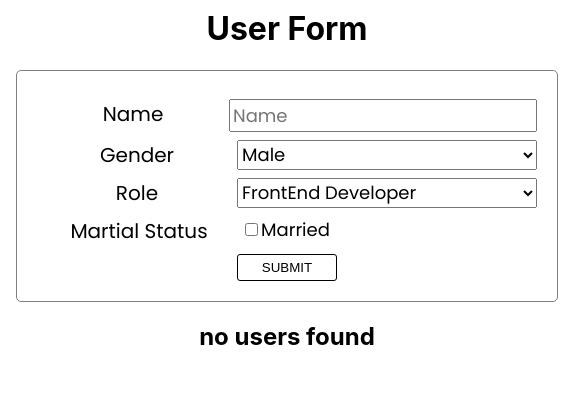
Test: React Form Component Testing › should reset the fileds with intitial data
Type "Aman" into the field at (383, 115), box [229,99,537,132]
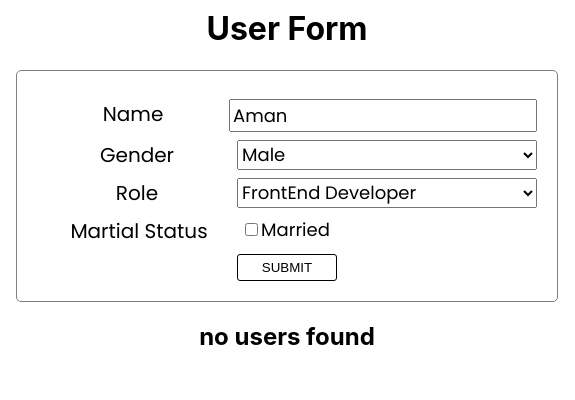
Select "Female" in the dropdown with test id "gender-select" at (387, 155), box [237,140,537,170]
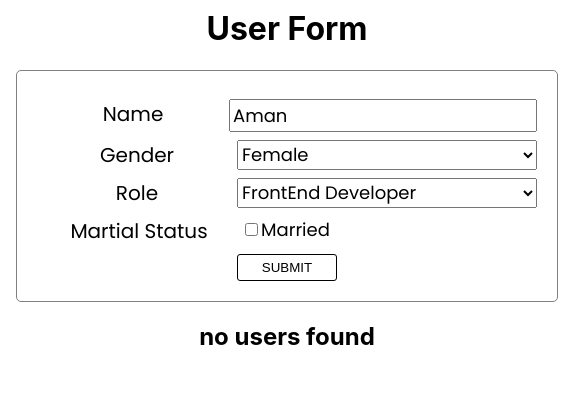
Select "BackEnd Developer" in the dropdown with test id "role-select" at (387, 193), box [237,178,537,208]
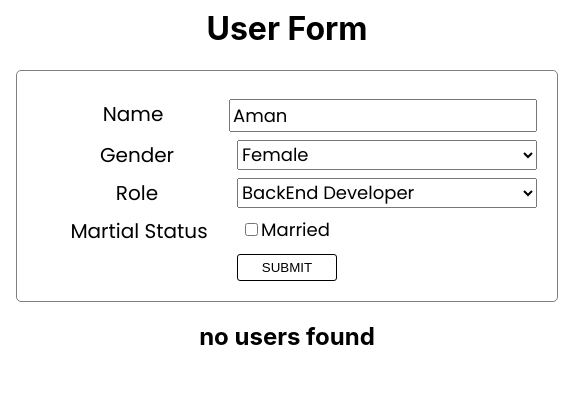
Click the checkbox at (252, 229), box [245,223,258,236]
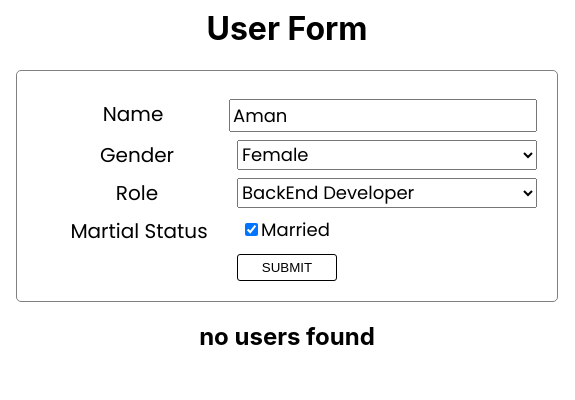
Submit the form with test id "form-element", box [37,99,537,281]
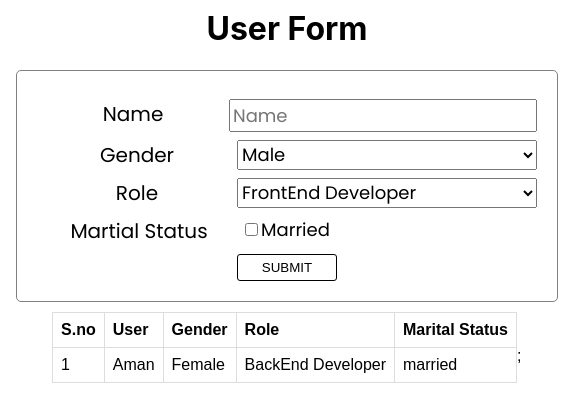
Expected: the checkbox is not checked, [245,223,258,236]
Expected: the row "1 Aman Female BackEnd Developer married ;" is shown, [53,347,521,382]
Expected: the field is empty, [229,99,537,132]
